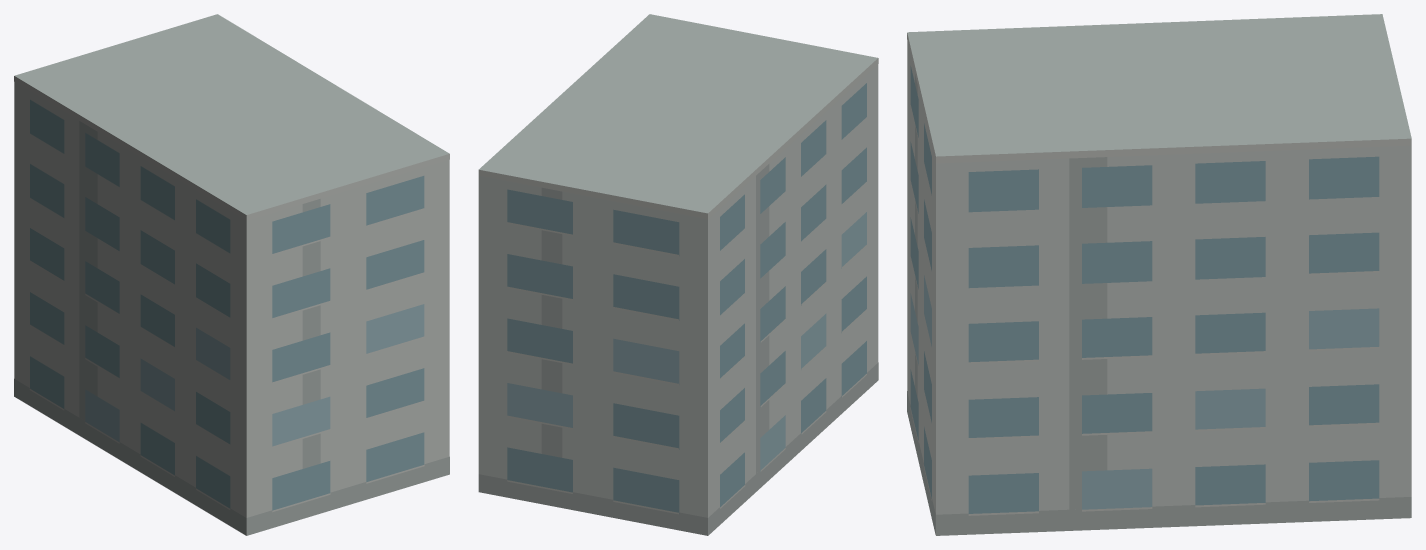
The model's file is survey-upis-32894104.glb.
3 renders of one model, left to right at view 1: azimuth 30°, elevation 25°; view 2: azimuth 150°, elevation 25°; view 3: azimuth 270°, elevation 25°, orthographic. The views are drawn at different scales.
Parts seen in each view (by area): view 1: survey-upis-32894104.tmp; view 2: survey-upis-32894104.tmp; view 3: survey-upis-32894104.tmp.
Part boxes in pixels (x1=…): survey-upis-32894104.tmp: x1=14, y1=14, x2=449, y2=535; survey-upis-32894104.tmp: x1=478, y1=14, x2=878, y2=535; survey-upis-32894104.tmp: x1=907, y1=14, x2=1411, y2=535.
Size of the model in its own units: 10.64 by 13.2 by 15.92.
